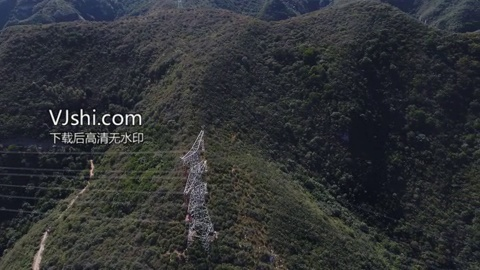tower_body: (177, 122, 224, 255)
tower_foot: (184, 216, 217, 251)
tower_head: (179, 127, 209, 165)
